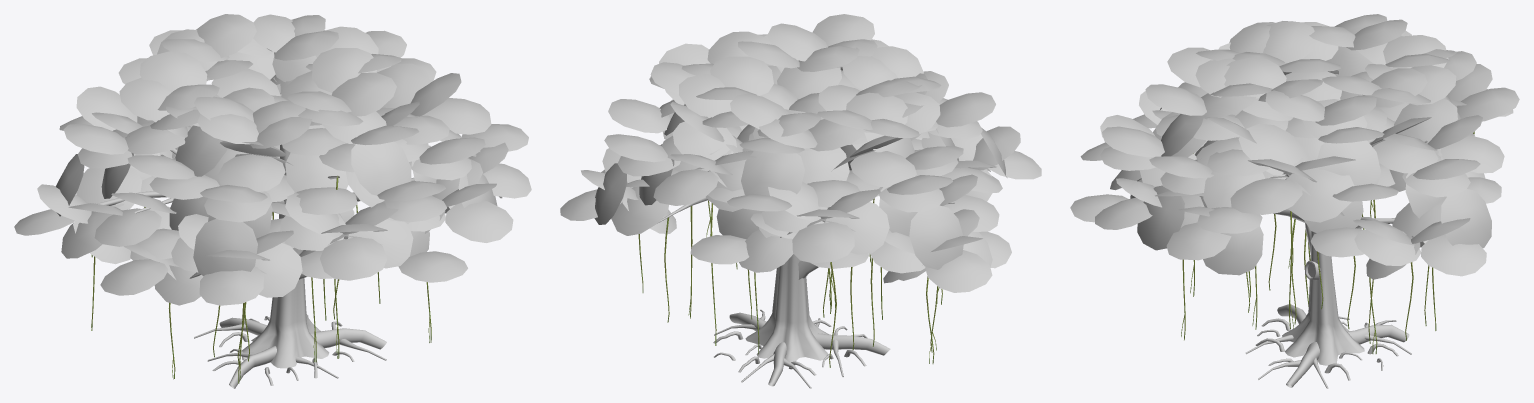
Rendered from giant_tree_.fbx.
3 views of the same model, side by side, from view 1: azimuth 30°, elevation 25°; view 2: azimuth 150°, elevation 25°; view 3: azimuth 270°, elevation 25° (orthographic). The views are drawn at different scales.
Parts seen in each view (by area): view 1: Leafs, Giant_tree, Vine, main_root.1, main_root.3, main_root.2; view 2: Leafs, Giant_tree, Vine, main_root.3, main_root.2, main_root.1; view 3: Leafs, Giant_tree, Vine, main_root.2, main_root.1.
Boxes of the visible parts, bbox=[...] form: Leafs: bbox=[14, 14, 531, 305]; Giant_tree: bbox=[97, 144, 414, 368]; Vine: bbox=[91, 176, 431, 383]; main_root.1: bbox=[311, 328, 386, 360]; main_root.3: bbox=[207, 346, 276, 388]; main_root.2: bbox=[194, 317, 267, 338]; Leafs: bbox=[560, 14, 1041, 292]; Giant_tree: bbox=[630, 175, 954, 362]; Vine: bbox=[638, 198, 942, 367]; main_root.3: bbox=[814, 333, 890, 377]; main_root.2: bbox=[741, 342, 811, 388]; main_root.1: bbox=[714, 309, 766, 335]; Leafs: bbox=[1070, 14, 1519, 279]; Giant_tree: bbox=[1273, 138, 1427, 365]; Vine: bbox=[1181, 131, 1474, 353]; main_root.2: bbox=[1347, 320, 1411, 354]; main_root.1: bbox=[1258, 342, 1328, 388].
Size of the model in its own units: 2338 by 1571 by 2192.
